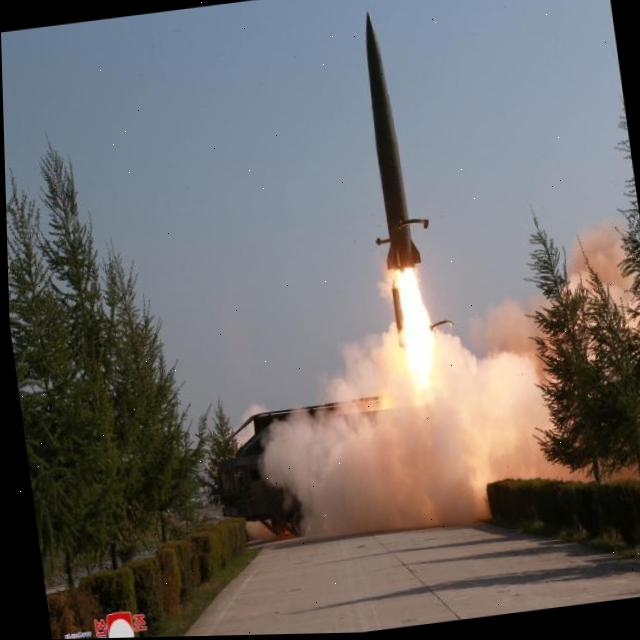missile: (345, 8, 423, 288)
